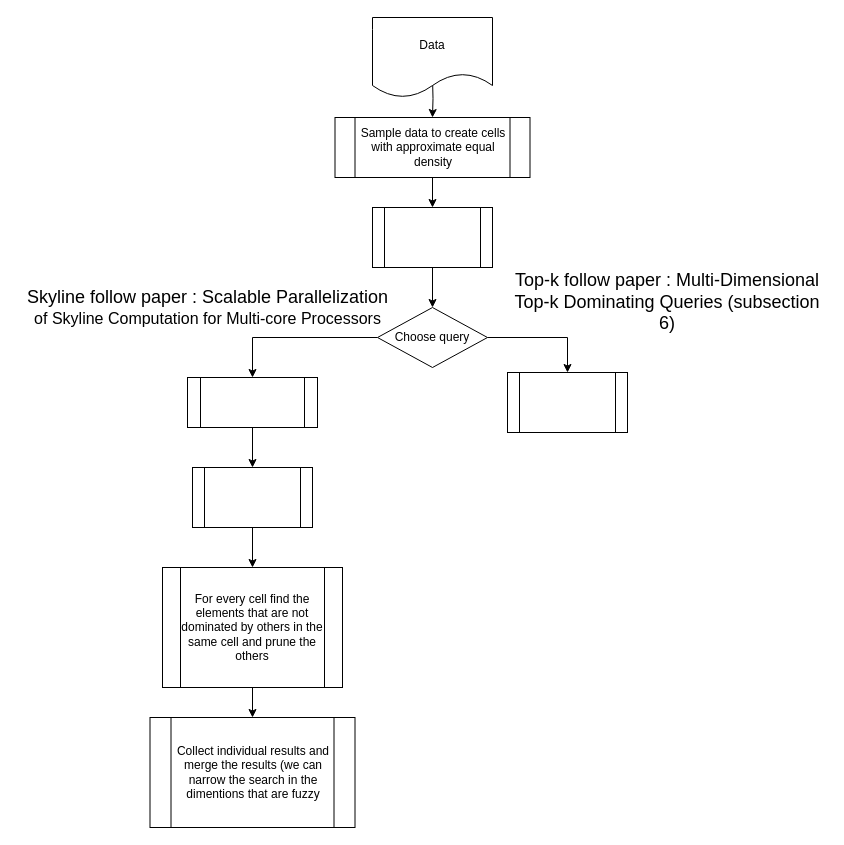
The diagram is 844 pixels wide and 845 high, and some of its shapes have lost their labels. Each missing label, with the centre of its shape:
"Map each entry to a cell" belongs at pixel 432 237.
"Partition entries by cell id" belongs at pixel 252 497.
"Prune cells that are fully dominated" belongs at pixel 252 402.
